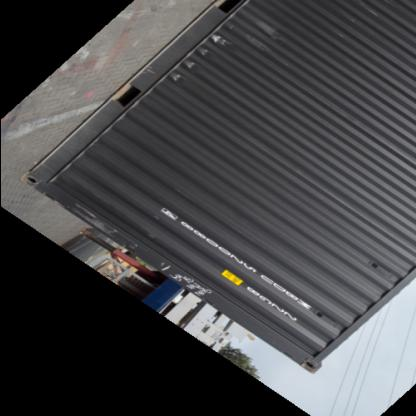Damage: (71, 203, 133, 243), (160, 264, 218, 298)
